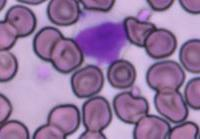M: (73, 12, 130, 68)
